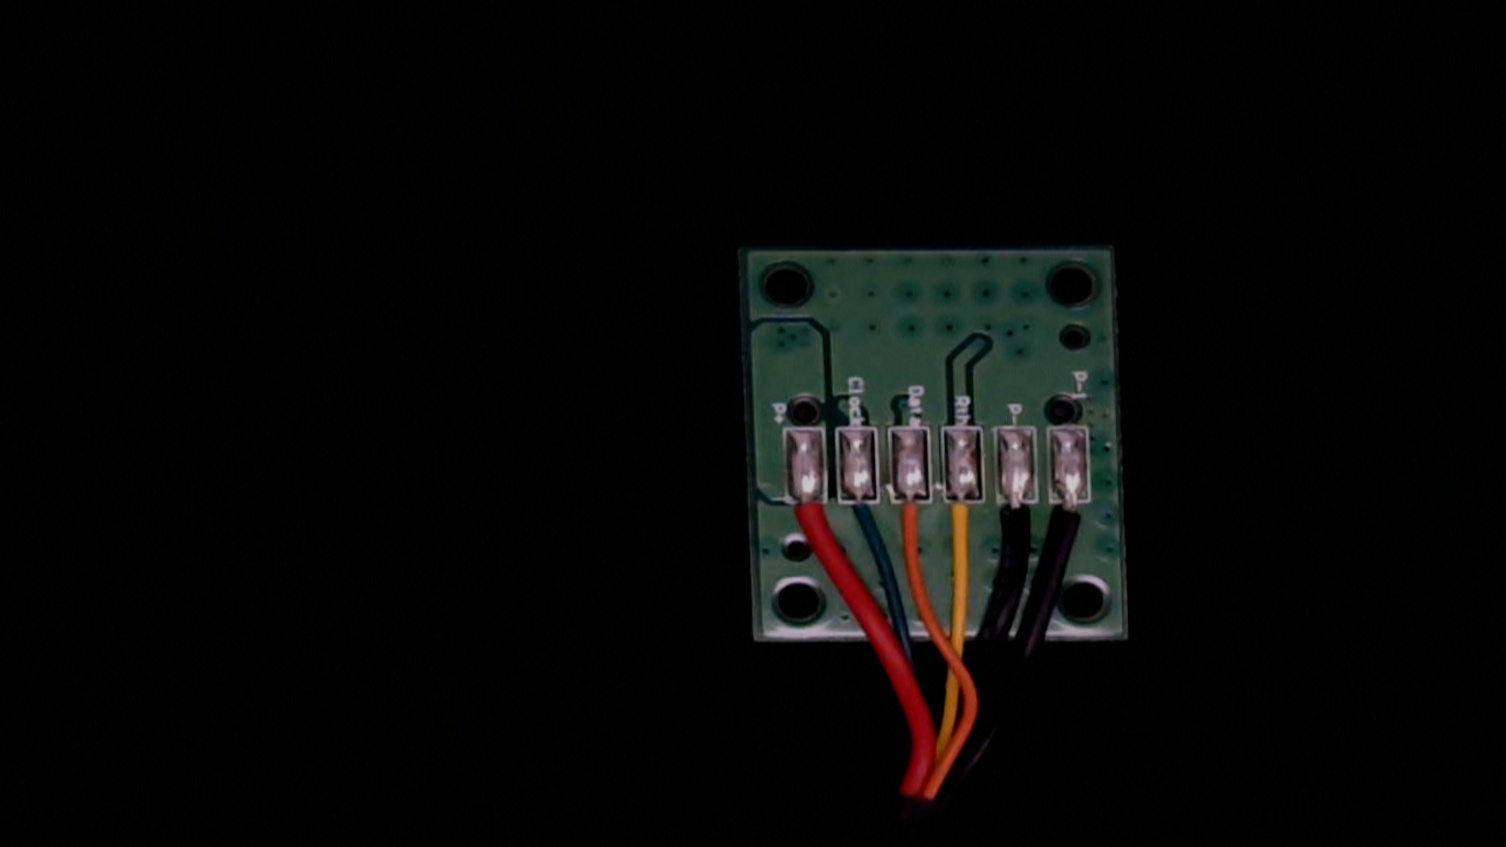Black: (998, 484, 1038, 563)
Black1: (1049, 484, 1096, 564)
Green: (836, 482, 885, 548)
Orange: (892, 483, 936, 561)
Red: (786, 481, 831, 564)
Yellow: (942, 483, 991, 572)
